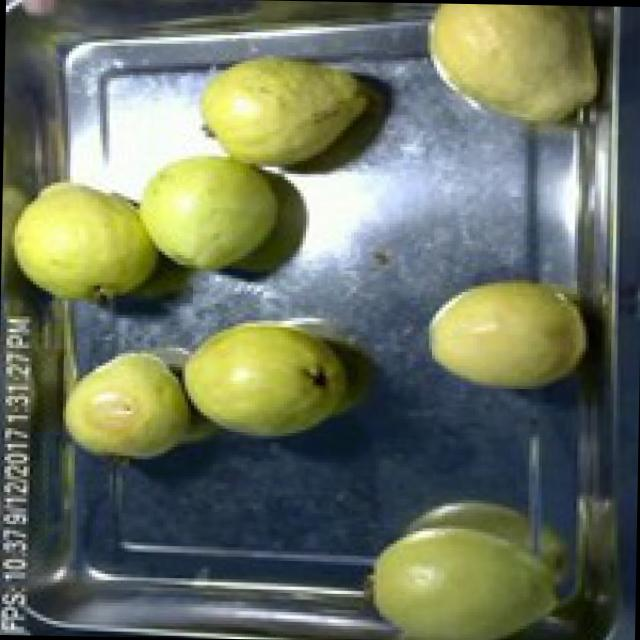Fruit: (356, 480, 573, 640), (182, 33, 396, 187), (406, 1, 616, 140), (125, 132, 317, 284), (170, 304, 362, 448), (0, 164, 182, 305), (415, 262, 599, 398), (55, 335, 201, 468)
